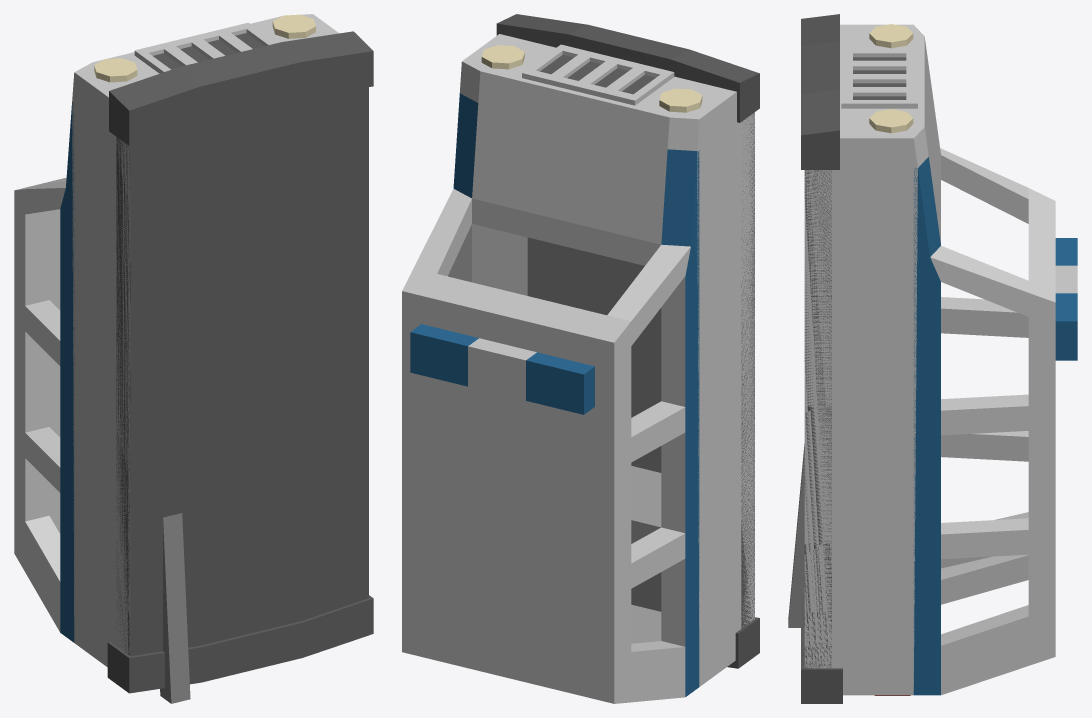
The model's file is Police_Jeep.fbx.
The picture shows the model from 3 angles, left to right: view 1: azimuth 30°, elevation 25°; view 2: azimuth 150°, elevation 25°; view 3: azimuth 270°, elevation 25°; orthographic projection. The views are drawn at different scales.
Parts seen in each view (by area): view 1: Model_1, Model_0, Headlights; view 2: Model_1, Model_0, Siren_1, Siren_0, Headlights; view 3: Model_1, Model_0, Headlights, Siren_0, Siren_1.
Part boxes in pixels (left/top/right/bottom): Model_1: left=14, top=72, right=368, bottom=666; Model_0: left=72, top=14, right=373, bottom=703; Headlights: left=94, top=14, right=315, bottom=82; Model_1: left=402, top=61, right=754, bottom=703; Model_0: left=462, top=14, right=759, bottom=685; Siren_1: left=526, top=352, right=594, bottom=414; Siren_0: left=410, top=324, right=478, bottom=386; Headlights: left=481, top=45, right=702, bottom=112; Model_1: left=804, top=37, right=1055, bottom=695; Model_0: left=788, top=14, right=1077, bottom=703; Headlights: left=869, top=24, right=913, bottom=133; Siren_0: left=1055, top=293, right=1077, bottom=360; Siren_1: left=1055, top=238, right=1077, bottom=265.
Size of the model in its own units: 2.52 by 6 by 2.65.
